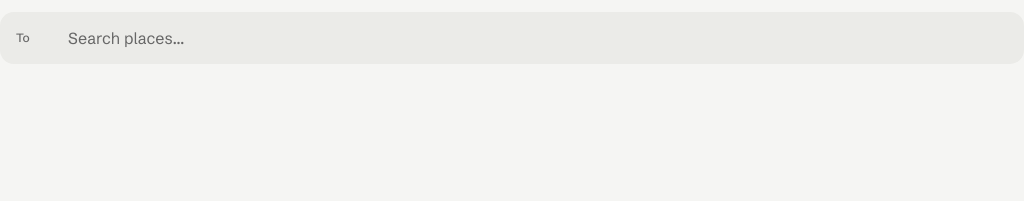
PlaceField saved-place shortcuts › offers no edit button on a place that is not saved yet
Click the dropdown labelled "To".
click(544, 38)  # box [68,12,1020,64]
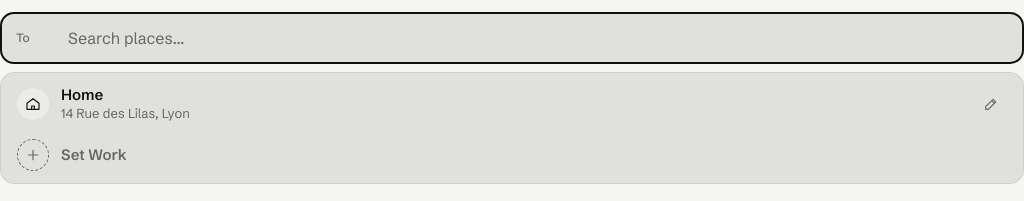
Now the number of buttons is 1, box [975,88,1007,120]
